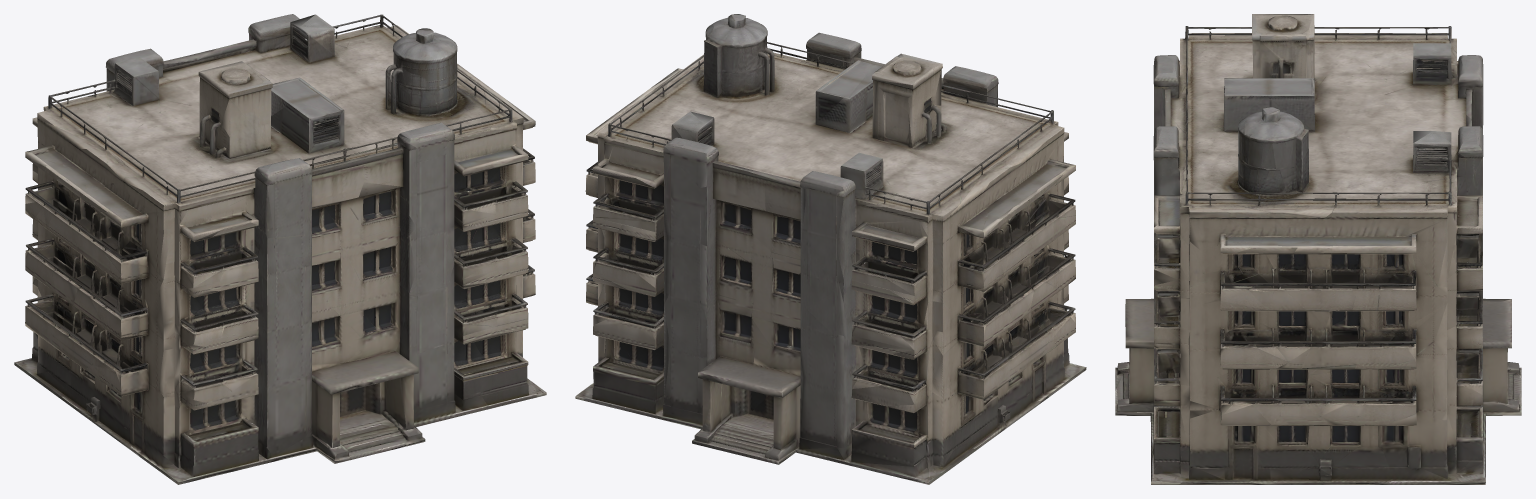
The model's file is apartment-block.glb.
3 views of the same model, side by side, from view 1: azimuth 30°, elevation 25°; view 2: azimuth 150°, elevation 25°; view 3: azimuth 270°, elevation 25° (orthographic). The views are drawn at different scales.
Parts seen in each view (by area): view 1: mesh_node; view 2: mesh_node; view 3: mesh_node.
Part boxes in pixels (box(x1,y1,x2,y2)): mesh_node: box(14, 14, 546, 484); mesh_node: box(575, 14, 1086, 484); mesh_node: box(1115, 14, 1521, 484).
Size of the model in its own units: 2 by 1.55 by 1.66.
Materials: 1 (1 with a texture image).
